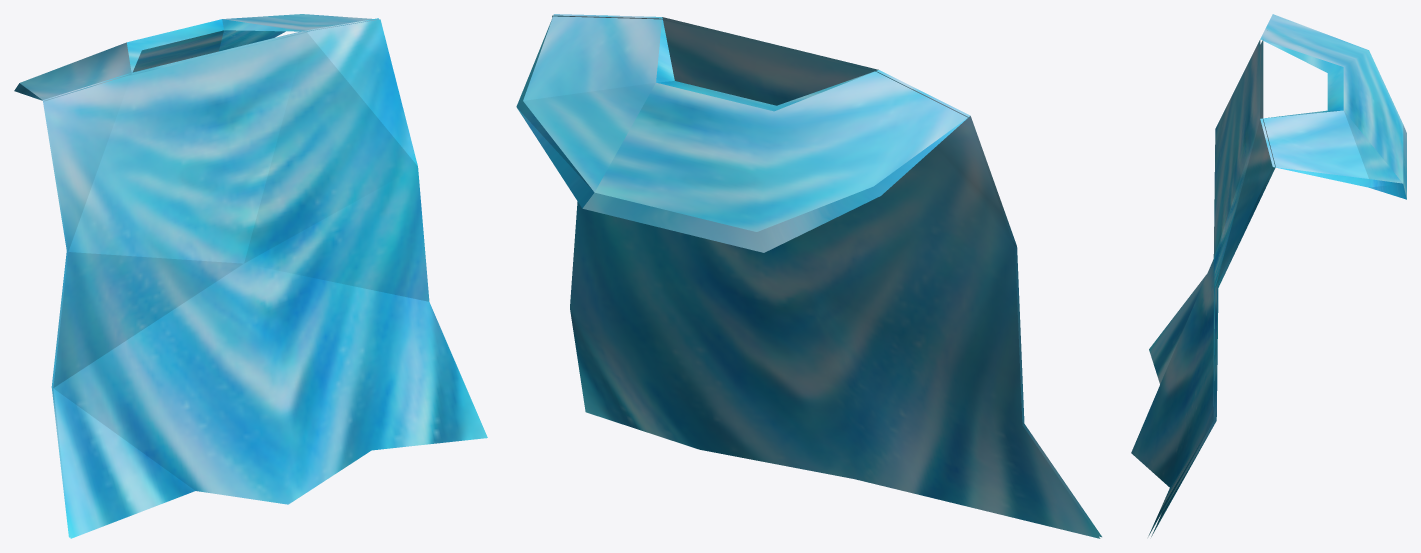
File: Item07.FBX
3 renders of one model, left to right at view 1: azimuth 30°, elevation 25°; view 2: azimuth 150°, elevation 25°; view 3: azimuth 270°, elevation 25°, orthographic. The views are drawn at different scales.
Visible parts, largest first — view 1: Item07; view 2: Item07; view 3: Item07.
Part boxes in pixels (x1=…): Item07: x1=14, y1=14, x2=487, y2=538; Item07: x1=516, y1=14, x2=1101, y2=538; Item07: x1=1131, y1=14, x2=1406, y2=536.
Size of the model in its own units: 17.14 by 15.77 by 10.54.
Materials: 1 (1 with a texture image).
